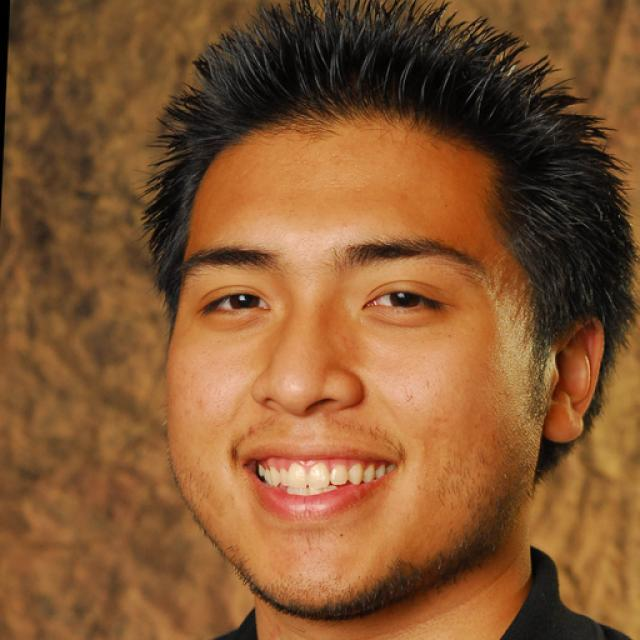happy: (162, 101, 548, 620)
